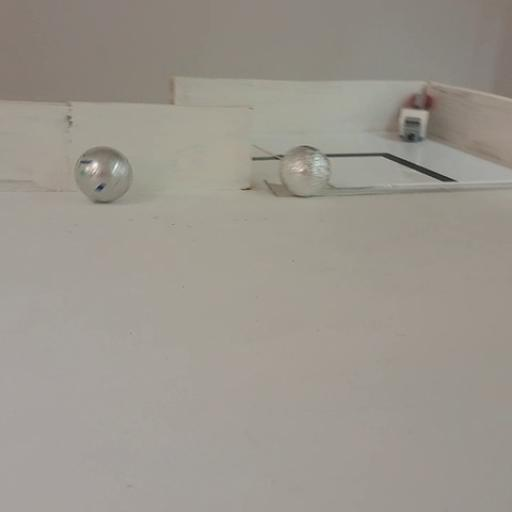alive: (74, 146, 132, 203), (279, 145, 332, 196)
